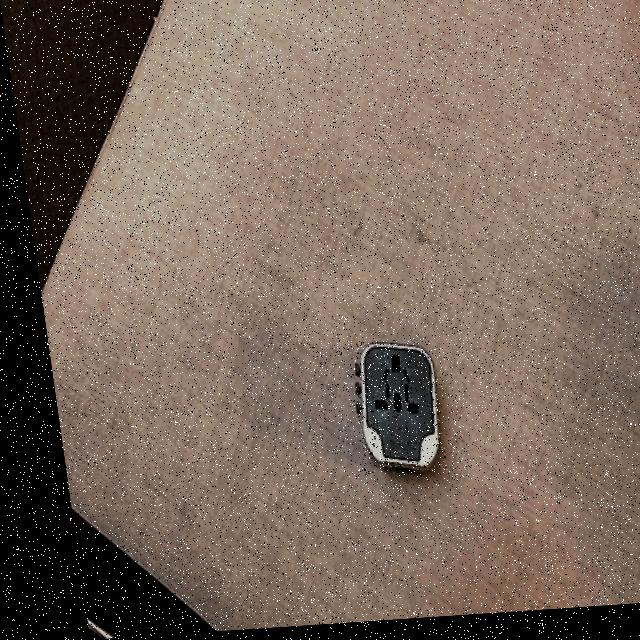adapter: (335, 341, 433, 480)
